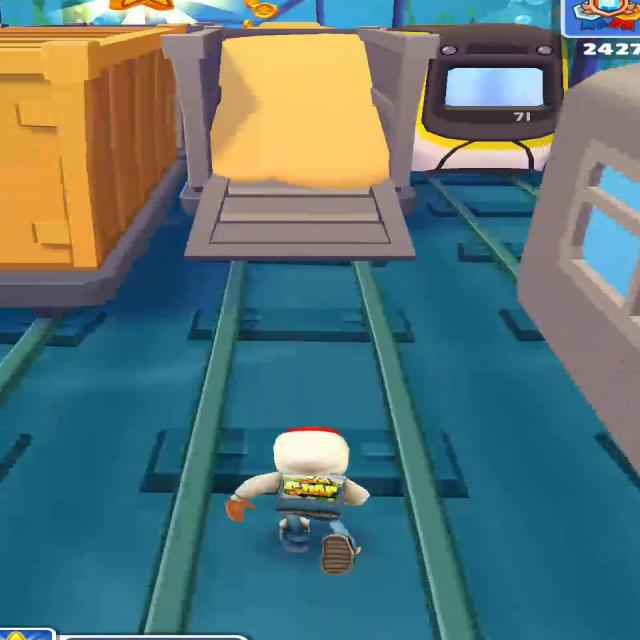climber: (196, 29, 412, 253)
train: (0, 18, 220, 289), (376, 22, 576, 173)
